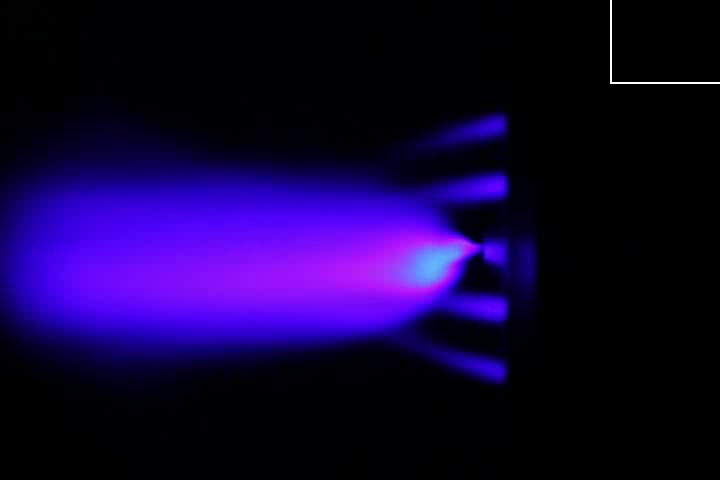burner cap: (479, 239, 511, 270)
pilot flame: (400, 105, 510, 158), (396, 340, 508, 385), (408, 171, 510, 206), (439, 293, 504, 323)
stable: (279, 226, 480, 297)
